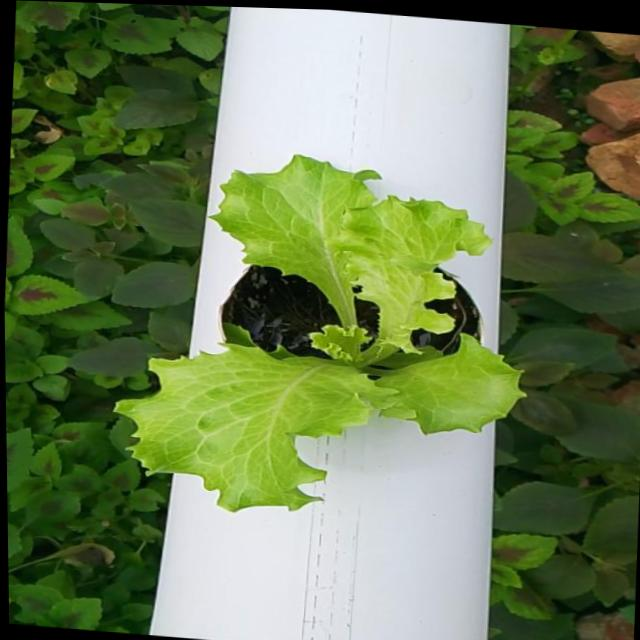Baby: (148, 161, 558, 517)
